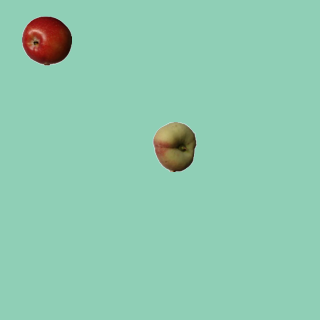Apple Braeburn: (21, 15, 71, 65)
Peach Flat: (149, 121, 199, 171)
